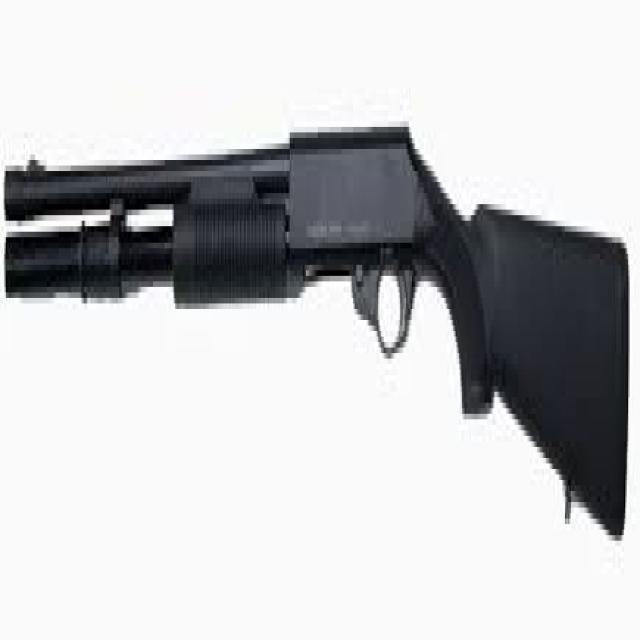rifle: (1, 100, 635, 564)
